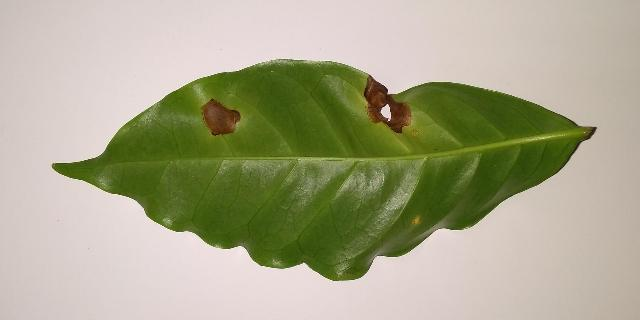rust: (364, 75, 411, 133), (202, 99, 241, 136), (413, 217, 419, 224)
